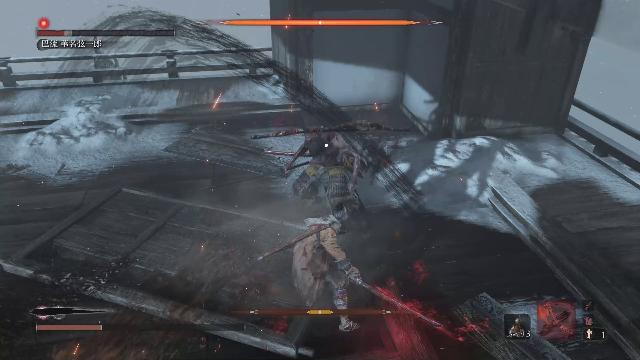sk: (290, 199, 367, 332)
